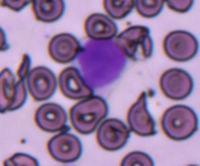L: (74, 37, 128, 92)
